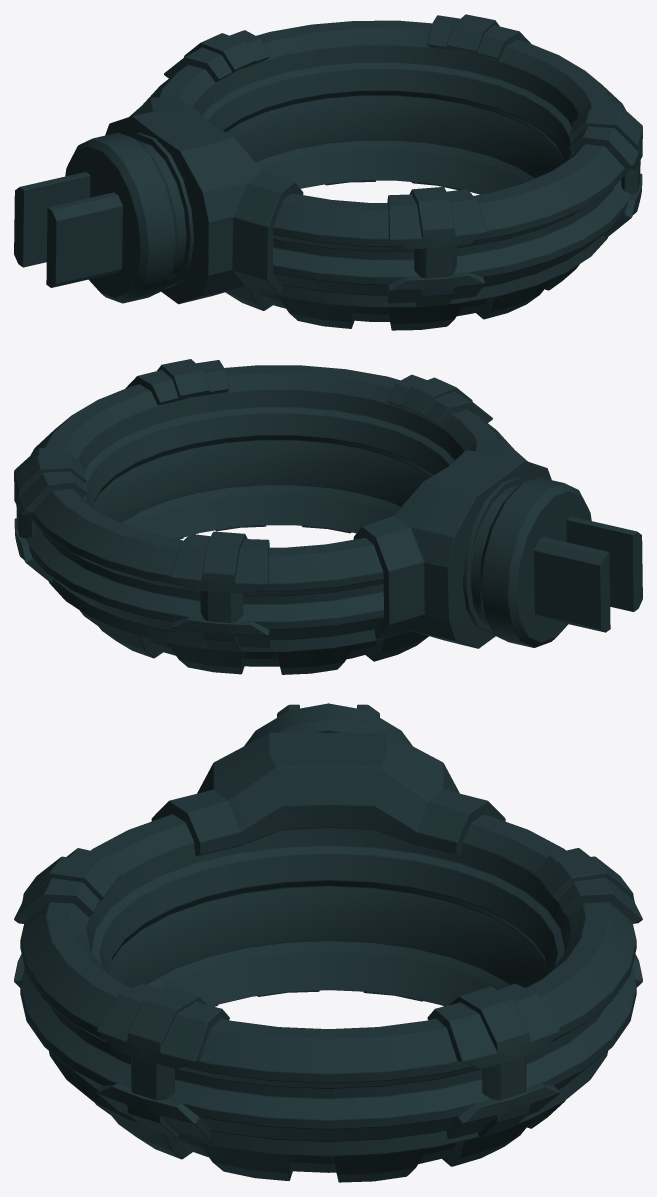
Rendered from thruster.fbx.
3 renders of one model, top to bottom at view 1: azimuth 30°, elevation 25°; view 2: azimuth 150°, elevation 25°; view 3: azimuth 270°, elevation 25°, orthographic. The views are drawn at different scales.
Visible parts, largest first — view 1: Cylinder.006, Cylinder.010_Piece.007, Cylinder.010_Piece.006, Cylinder.010_Piece.008, Cylinder.022, Cube.005_Piece.001, Cylinder.010_Piece.004_Piece.001, Cylinder.023; view 2: Cylinder.006, Cylinder.010_Piece.007, Cylinder.010_Piece.006, Cylinder.010_Piece.008, Cylinder.022, Cube.005_Piece.001, Cylinder.010_Piece.004_Piece.001, Cylinder.023; view 3: Cylinder.006, Cylinder.010_Piece.007, Cylinder.010_Piece.006, Cylinder.010_Piece.008, Cylinder.010_Piece.004_Piece.001, Cylinder.022.
Boxes of the visible parts, x1,y1,x2,y2 form: Cylinder.006: [143, 20, 630, 307]; Cylinder.010_Piece.007: [164, 14, 642, 307]; Cylinder.010_Piece.006: [105, 97, 303, 304]; Cylinder.010_Piece.008: [256, 140, 534, 321]; Cylinder.022: [65, 132, 177, 303]; Cube.005_Piece.001: [14, 172, 122, 287]; Cylinder.010_Piece.004_Piece.001: [225, 180, 579, 330]; Cylinder.023: [130, 132, 194, 288]; Cylinder.006: [26, 365, 513, 651]; Cylinder.010_Piece.007: [14, 359, 492, 651]; Cylinder.010_Piece.006: [353, 442, 551, 648]; Cylinder.010_Piece.008: [122, 485, 400, 666]; Cylinder.022: [479, 477, 591, 647]; Cube.005_Piece.001: [534, 516, 642, 632]; Cylinder.010_Piece.004_Piece.001: [80, 525, 428, 674]; Cylinder.023: [463, 477, 526, 633]; Cylinder.006: [20, 814, 636, 1156]; Cylinder.010_Piece.007: [14, 848, 642, 1139]; Cylinder.010_Piece.006: [151, 732, 505, 856]; Cylinder.010_Piece.008: [147, 941, 509, 1172]; Cylinder.010_Piece.004_Piece.001: [94, 990, 565, 1182]; Cylinder.022: [244, 703, 412, 746].
Size of the model in its own units: 2.54 by 1.98 by 0.7612.
